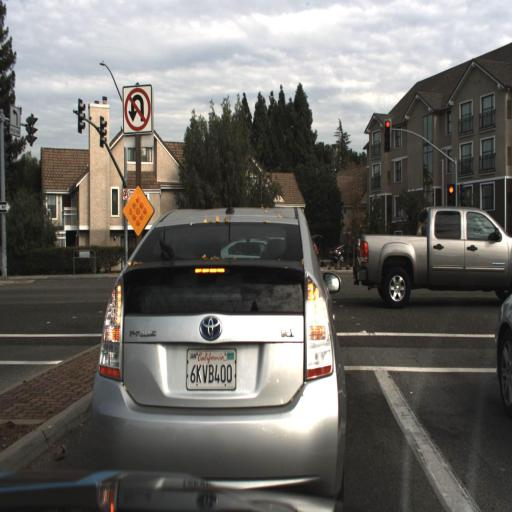car: (83, 189, 347, 487), (354, 207, 512, 312), (488, 267, 511, 428), (327, 241, 355, 265)
trafficLight-Red: (380, 111, 393, 155), (446, 181, 457, 213)
